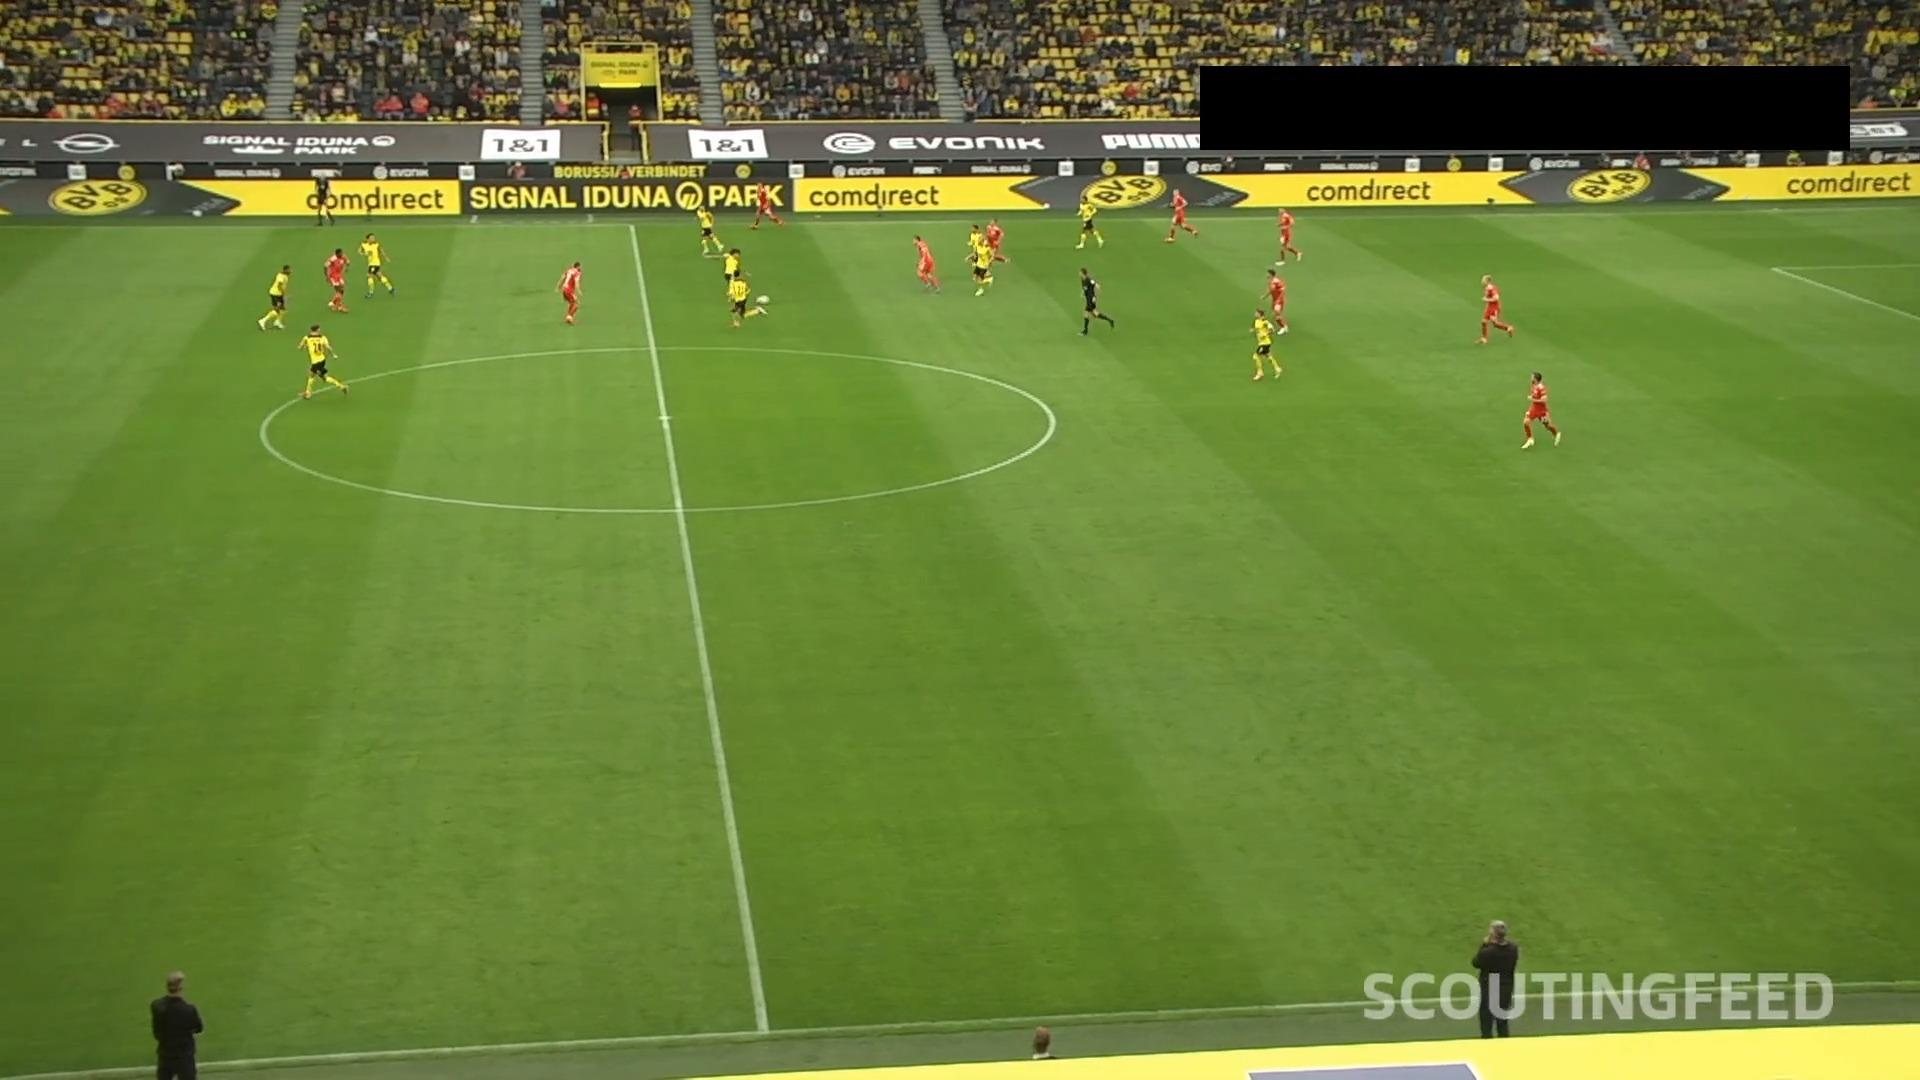ball: (756, 293, 771, 306)
